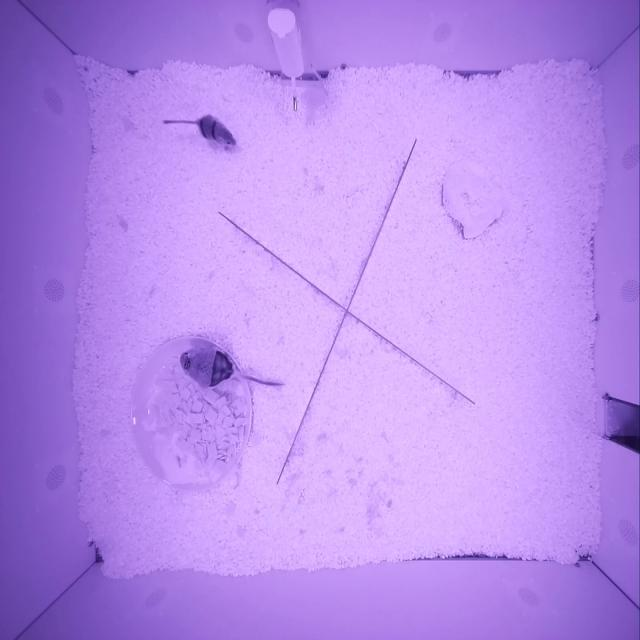adult_back: (180, 347, 235, 389)
pup_h_stripe: (198, 114, 236, 146)
